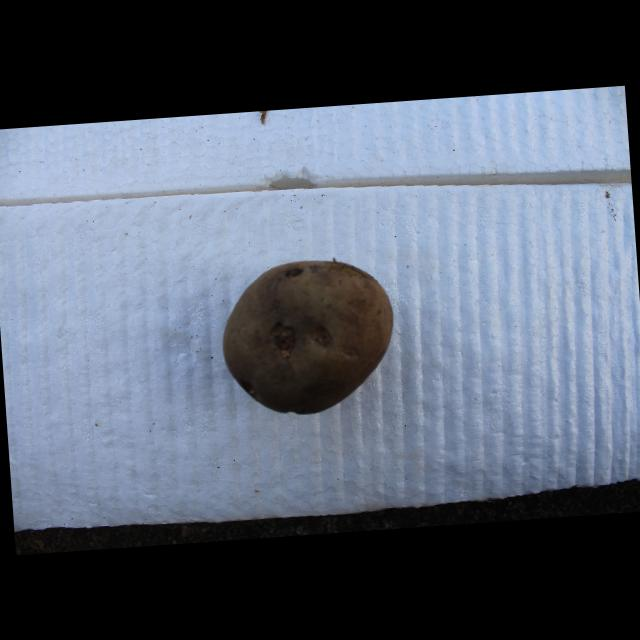Diseased-fungal potato: (238, 215, 430, 389)
